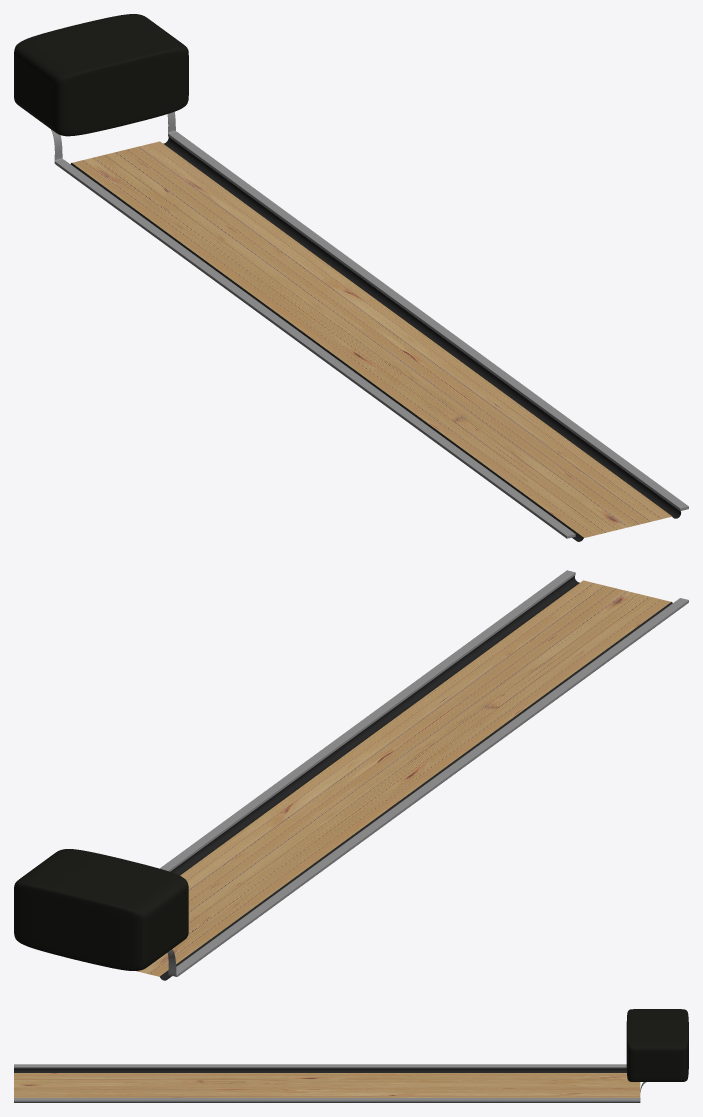
Rendered from alley.fbx.
3 views of the same model, one above another, from view 1: azimuth 30°, elevation 25°; view 2: azimuth 150°, elevation 25°; view 3: azimuth 270°, elevation 25° (orthographic). The views are drawn at different scales.
Visible parts, largest first — view 1: Plane, Cube.002, Cylinder.001, Cube, Cube.001; view 2: Plane, Cube.002, Cylinder.001, Cube, Cube.001; view 3: Plane, Cube.002, Cylinder.001, Cube.001, Cube.
Boxes of the visible parts, x1,y1,x2,y2 form: Plane: (72, 141, 672, 537); Cube.002: (14, 14, 188, 136); Cylinder.001: (70, 136, 680, 541); Cube: (51, 129, 575, 538); Cube.001: (167, 112, 688, 510); Plane: (136, 580, 670, 976); Cube.002: (14, 849, 188, 970); Cylinder.001: (160, 576, 672, 980); Cube: (167, 598, 688, 976); Cube.001: (160, 570, 575, 871); Plane: (14, 1073, 640, 1097); Cube.002: (626, 1009, 688, 1081); Cylinder.001: (14, 1068, 640, 1102); Cube.001: (14, 1082, 646, 1102); Cube: (14, 1064, 626, 1068).
Size of the model in its own units: 3000 by 2204 by 21558.
4 materials, 1 textured.
